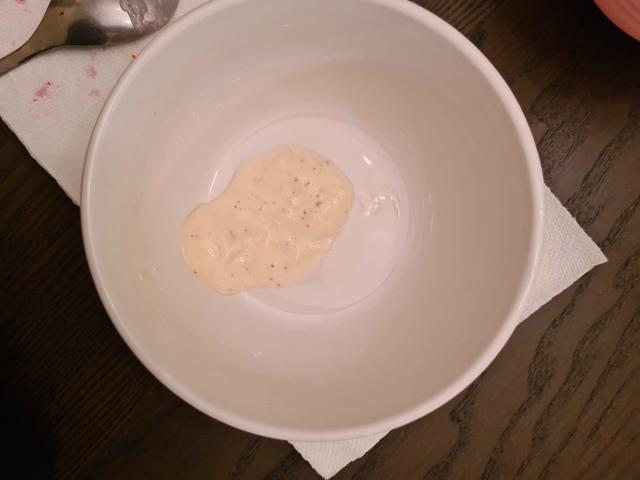kichen waste: (182, 148, 354, 294)
